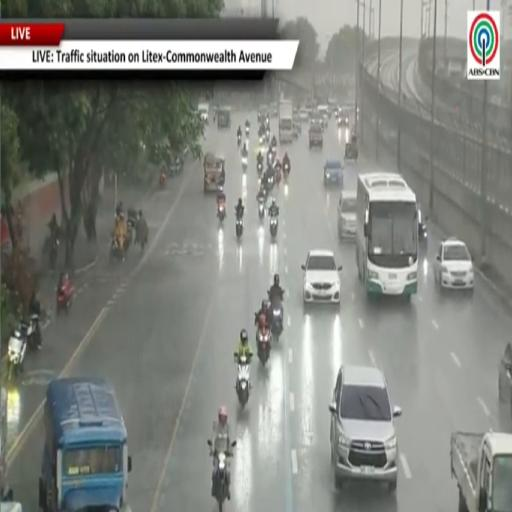bus: (356, 172, 418, 298)
car: (329, 365, 401, 491), (301, 249, 342, 305), (433, 237, 474, 291), (337, 190, 356, 239), (499, 343, 511, 411), (324, 159, 342, 187), (309, 123, 323, 149), (317, 105, 329, 127), (198, 103, 209, 124), (293, 114, 301, 137), (300, 108, 309, 121)
jeepney: (204, 153, 224, 193)
motorcycle: (208, 440, 228, 511), (7, 327, 27, 380), (234, 352, 250, 408), (18, 314, 40, 349), (20, 314, 40, 349), (57, 280, 74, 314), (256, 326, 270, 366), (271, 297, 283, 341), (110, 237, 124, 262), (49, 235, 59, 268), (270, 217, 278, 238), (218, 203, 226, 223), (283, 162, 290, 182), (236, 218, 242, 239), (258, 199, 264, 220), (159, 171, 166, 188), (267, 174, 274, 189), (276, 166, 281, 185), (257, 162, 263, 177), (242, 156, 247, 171), (265, 128, 270, 142), (265, 117, 269, 133), (259, 136, 264, 146), (237, 135, 241, 147), (272, 145, 276, 157), (246, 126, 249, 137)
truck: (39, 377, 131, 511), (451, 431, 511, 511), (0, 388, 12, 502), (279, 100, 293, 142), (0, 502, 22, 511)
